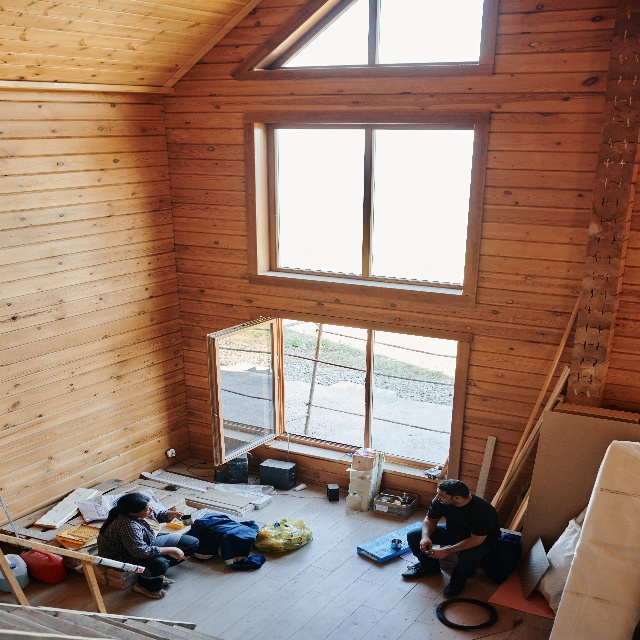Sin_guantes: (168, 545, 185, 563), (424, 547, 448, 559), (419, 537, 432, 554), (174, 510, 184, 522)
